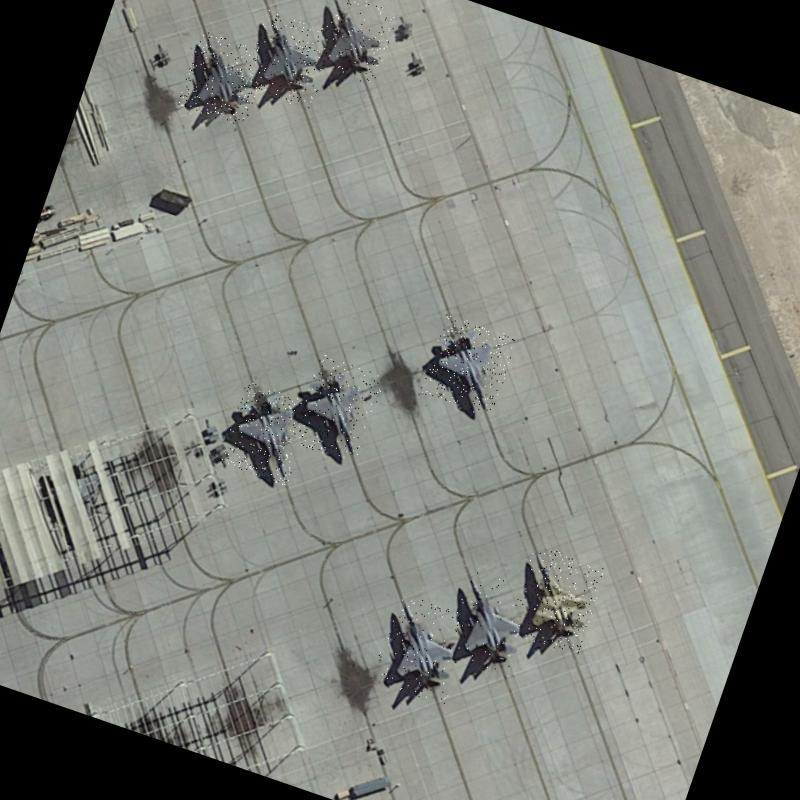A13: (370, 592, 476, 706), (505, 544, 607, 658), (440, 568, 539, 676), (290, 354, 386, 465), (419, 314, 519, 419), (218, 381, 316, 487), (241, 8, 338, 112), (176, 31, 270, 128), (308, 0, 399, 86)
